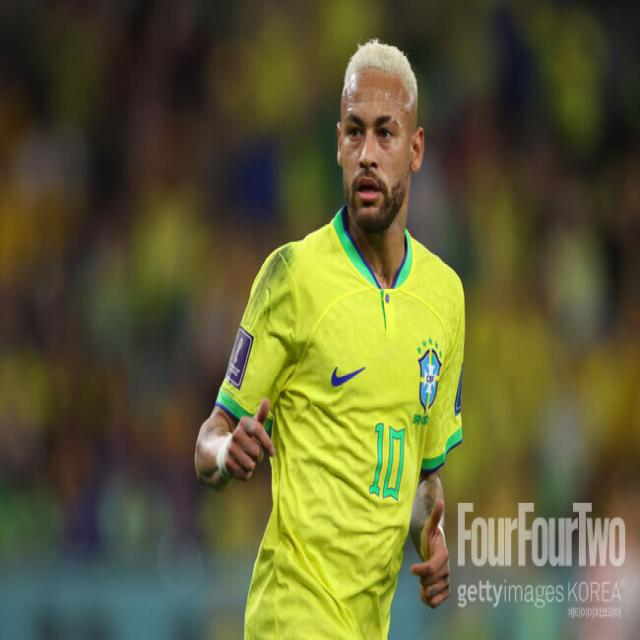neymar: (334, 44, 424, 225)
